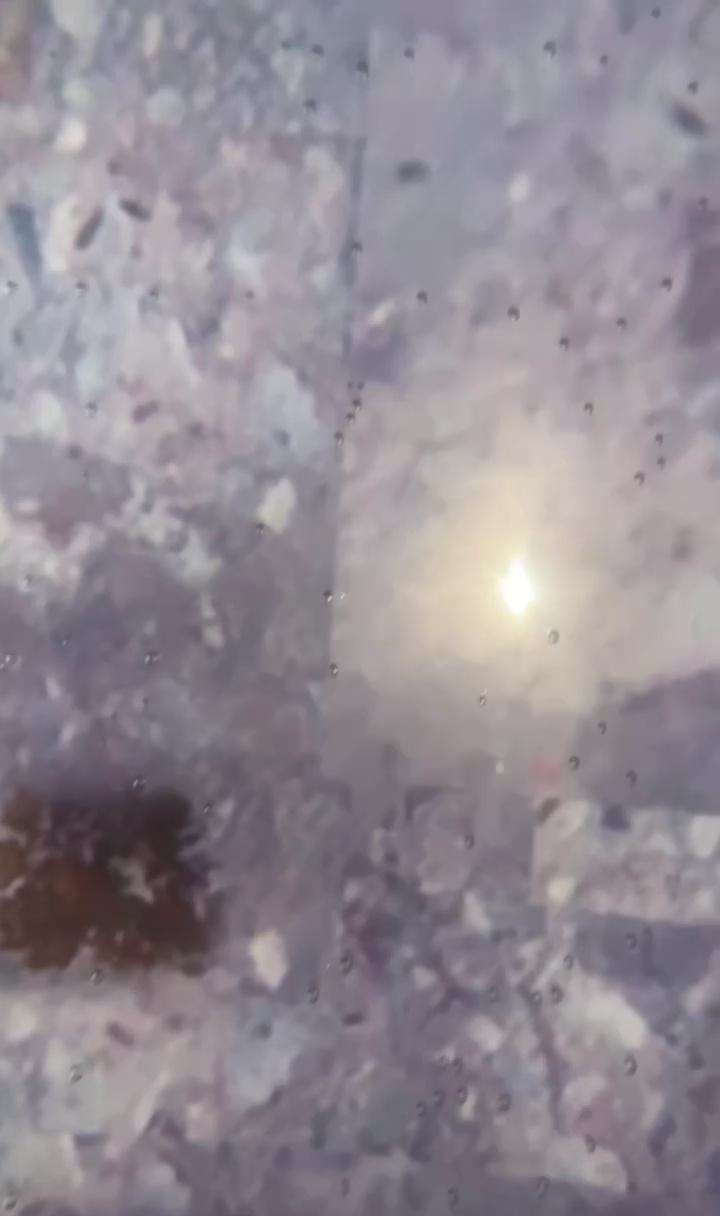Corrosion: (1, 787, 228, 980)
